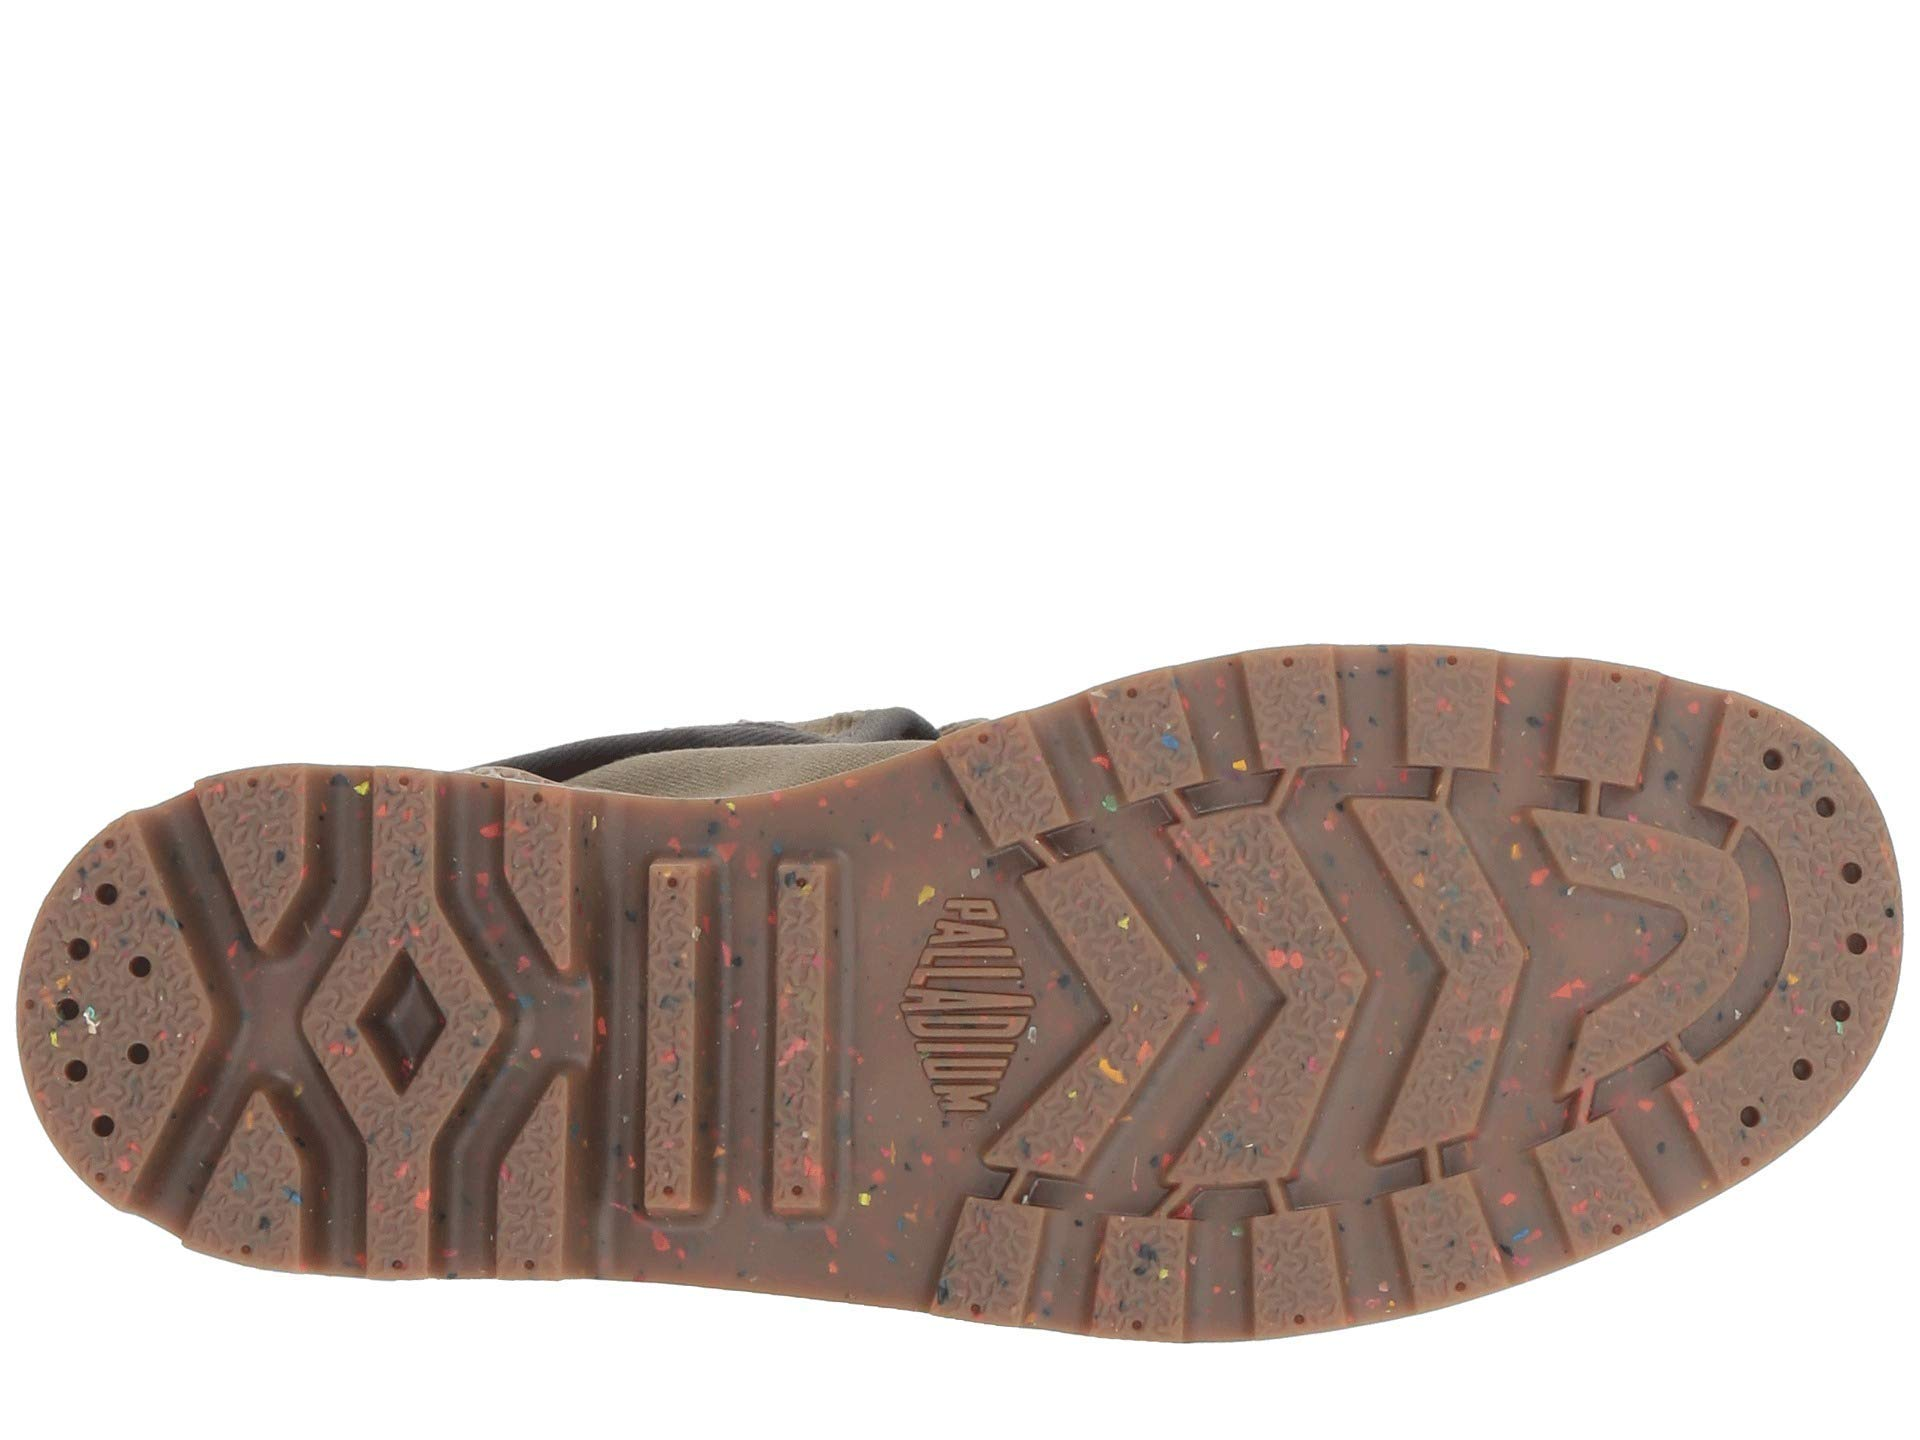chevron: (1132, 791, 1527, 1190)
circle: (629, 836, 859, 1237), (1788, 776, 1872, 1088)
line: (1132, 791, 1527, 1190)
quad: (629, 836, 859, 1237)
text: (897, 877, 1043, 1125)
